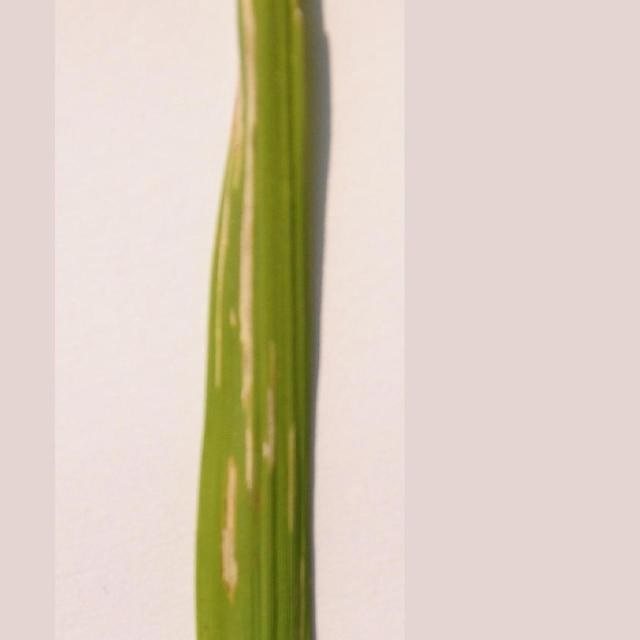Bacterial leaf blight: (238, 0, 262, 501), (214, 458, 244, 600), (283, 409, 301, 566), (222, 308, 236, 334)
